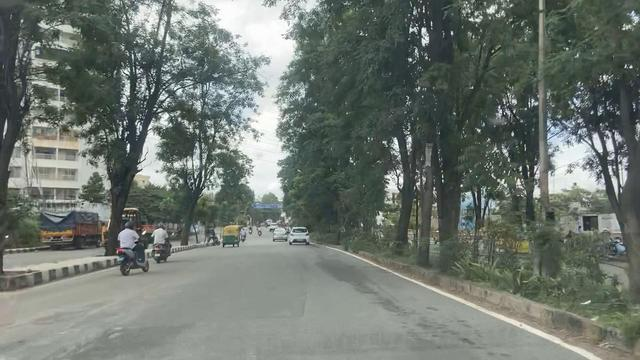LMV: (114, 221, 152, 271), (154, 216, 167, 263), (221, 227, 244, 248), (290, 226, 311, 244), (273, 227, 289, 244)
RoadDamages: (369, 279, 440, 331), (408, 327, 482, 360), (49, 309, 93, 358), (89, 319, 139, 349), (24, 323, 46, 360)
